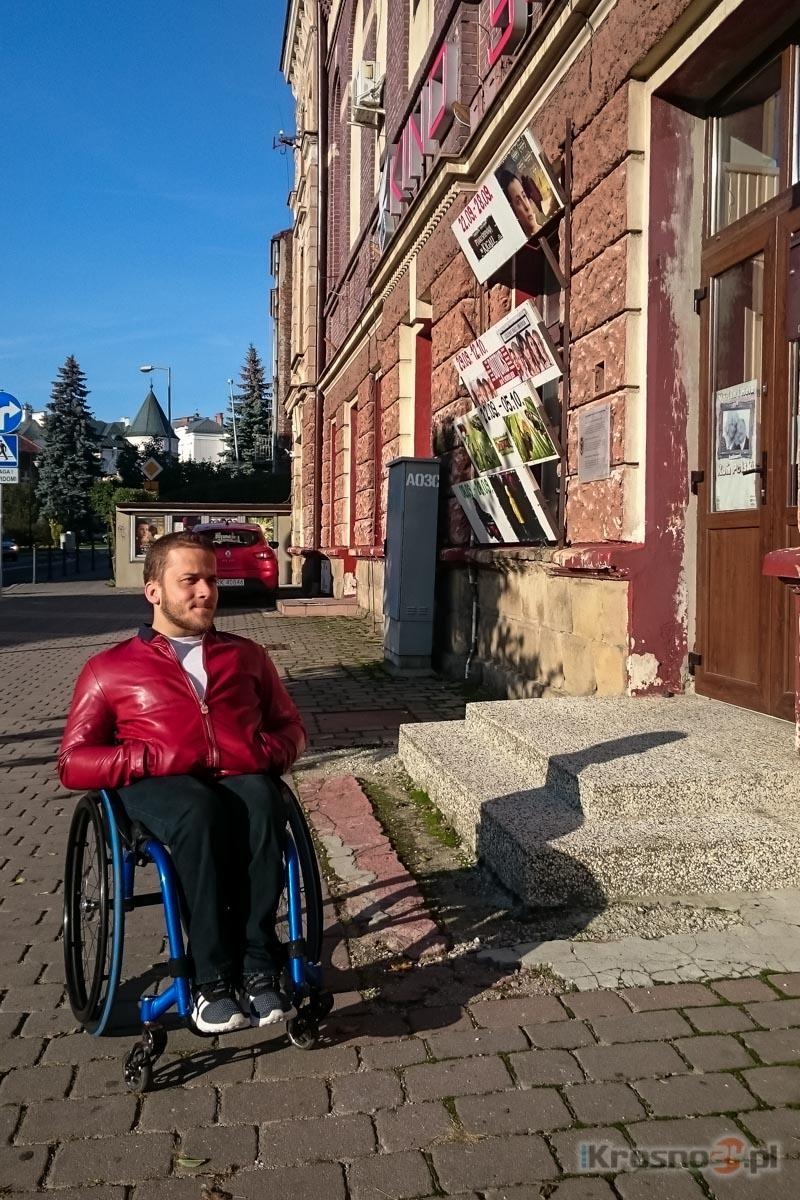wheelchair: (56, 531, 325, 1095)
